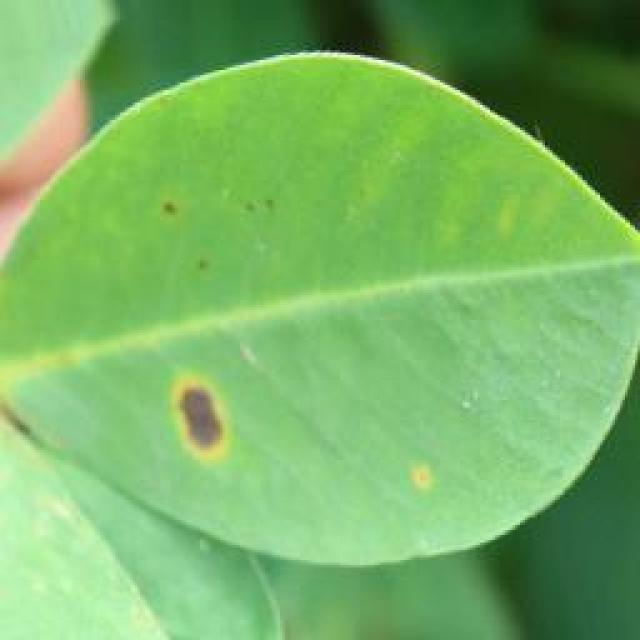Early_leaf_spot: (149, 172, 295, 277), (175, 356, 262, 479), (392, 450, 437, 501)
